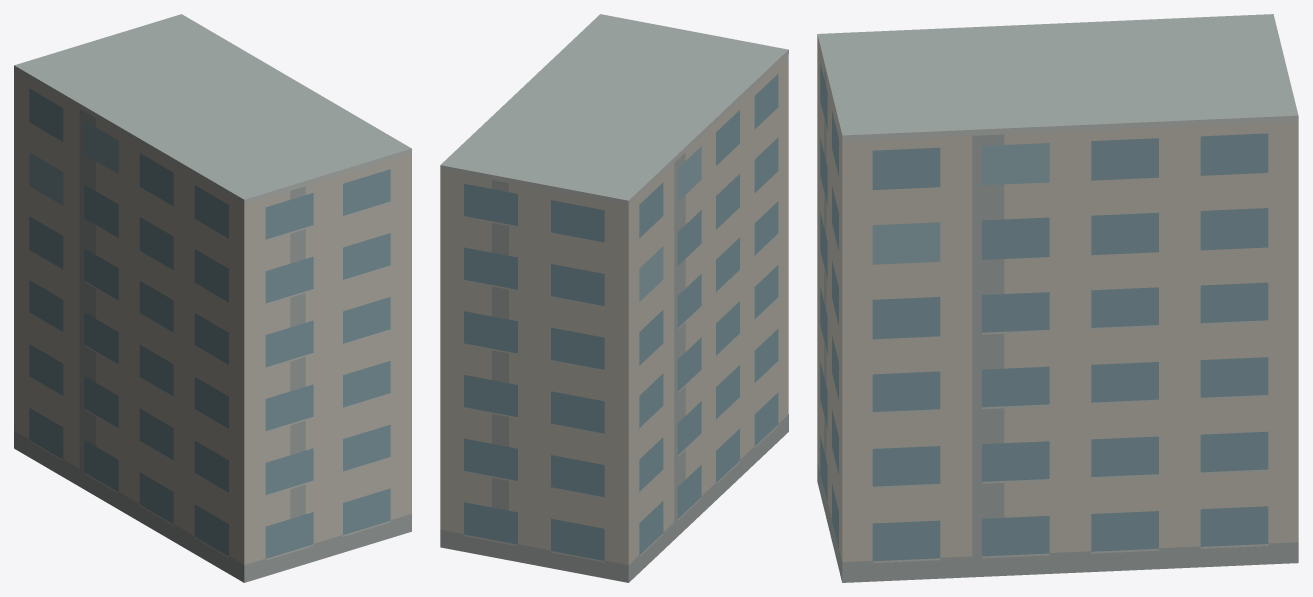
File: survey-upis-32949602.glb
3 renders of one model, left to right at view 1: azimuth 30°, elevation 25°; view 2: azimuth 150°, elevation 25°; view 3: azimuth 270°, elevation 25°, orthographic. The views are drawn at different scales.
Parts seen in each view (by area): view 1: survey-upis-32949602.tmp; view 2: survey-upis-32949602.tmp; view 3: survey-upis-32949602.tmp.
Boxes of the visible parts, left/top/right/bottom form: survey-upis-32949602.tmp: left=14, top=14, right=411, bottom=582; survey-upis-32949602.tmp: left=440, top=14, right=788, bottom=582; survey-upis-32949602.tmp: left=817, top=14, right=1298, bottom=582.
Size of the model in its own units: 10.66 by 18.3 by 17.84.
